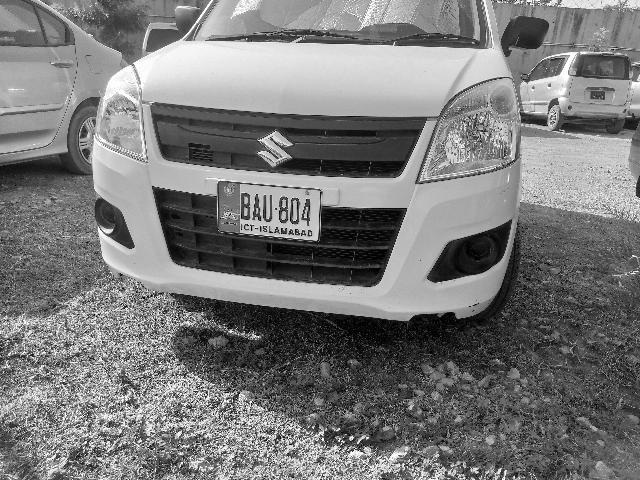Number: (242, 192, 316, 228)
